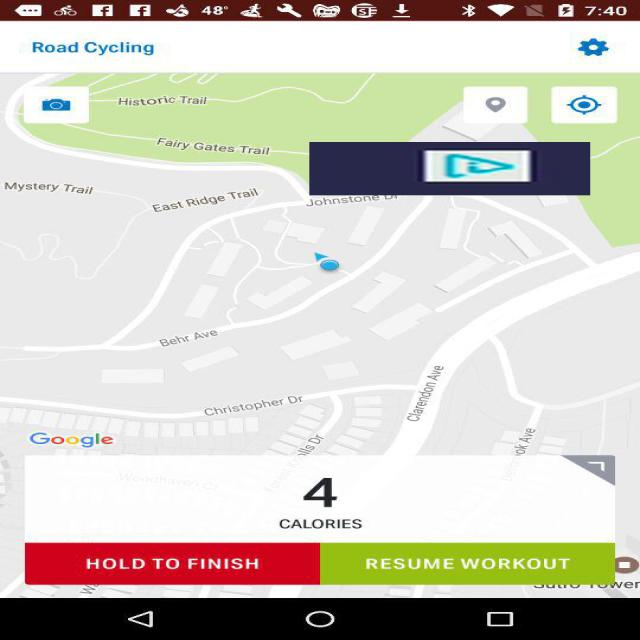sneaking: (310, 142, 590, 195)
